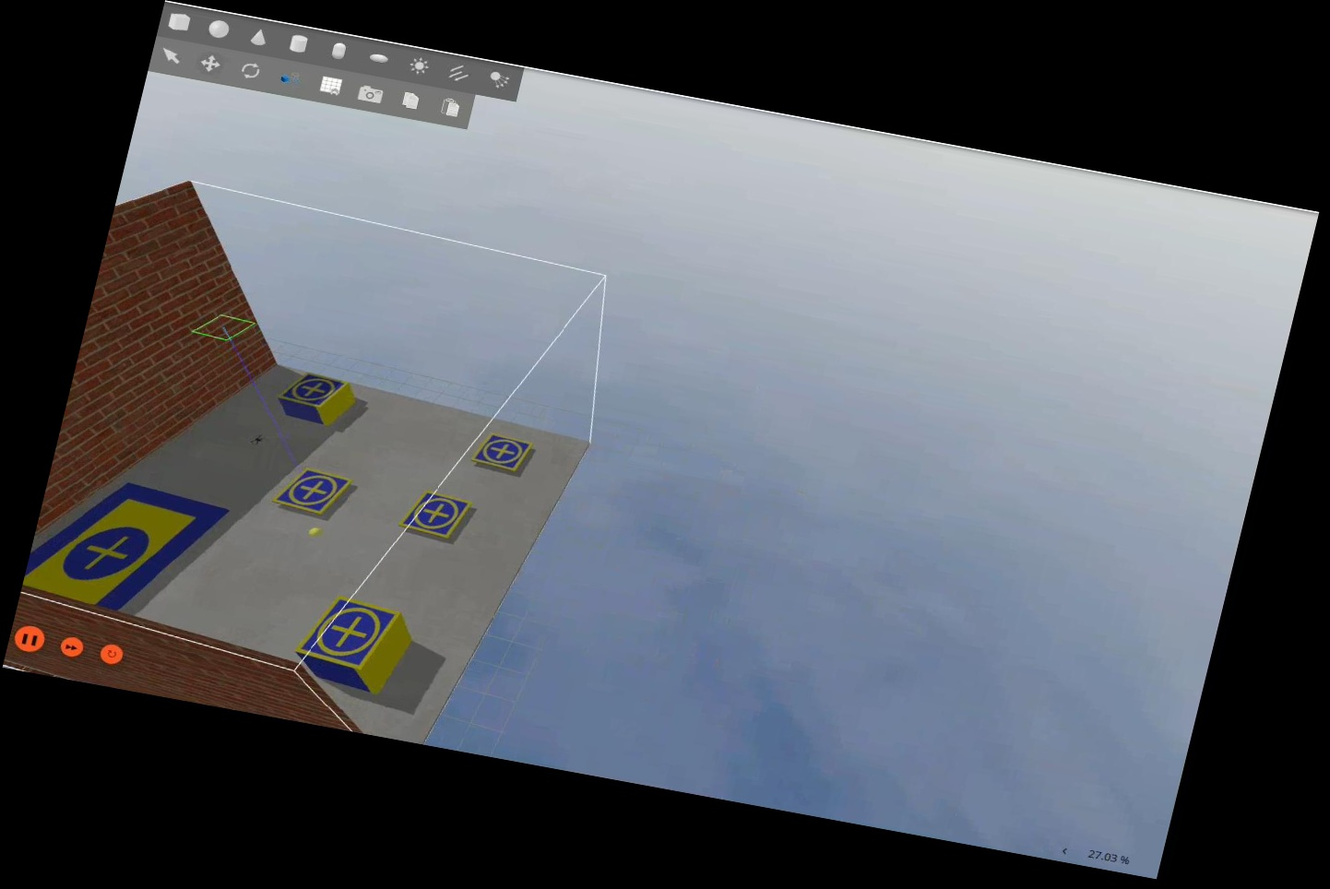large_base: (19, 468, 230, 629)
small_base: (298, 593, 403, 673), (398, 488, 479, 546), (272, 465, 355, 517), (467, 429, 537, 476), (279, 367, 350, 412)
